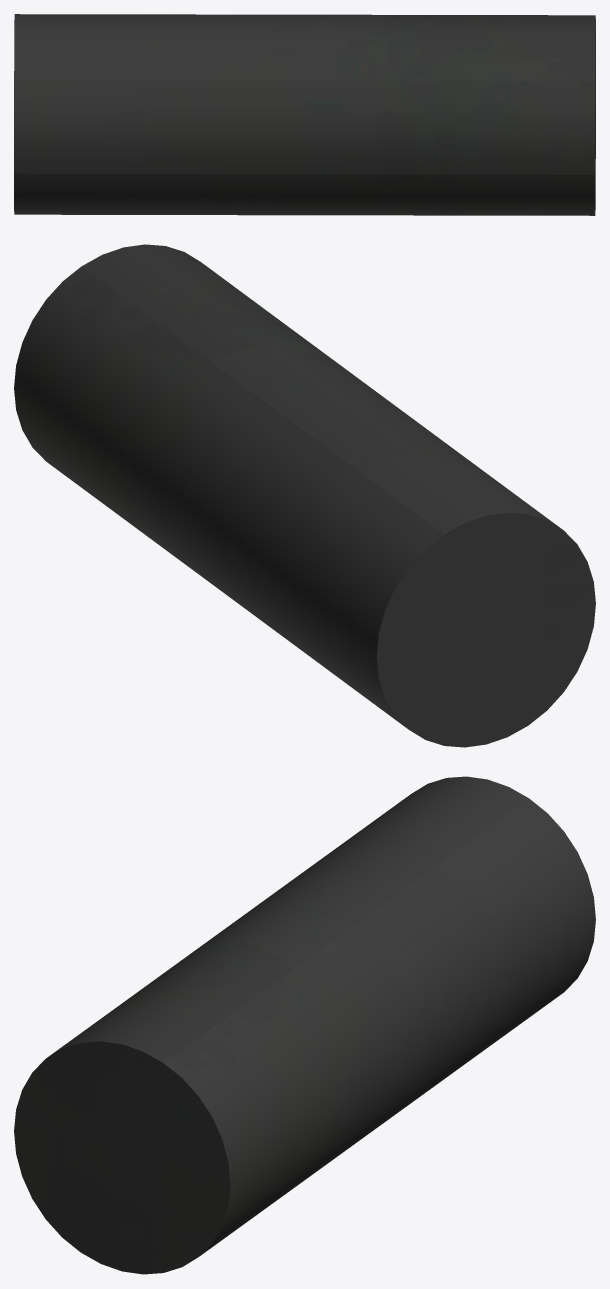
File: center_frame__axle_strut_1.glb
3 renders of one model, top to bottom at view 1: azimuth 30°, elevation 25°; view 2: azimuth 150°, elevation 25°; view 3: azimuth 270°, elevation 25°, orthographic. The views are drawn at different scales.
Parts seen in each view (by area): view 1: world; view 2: world; view 3: world.
Boxes of the visible parts, x1,y1,x2,y2 form: world: (14, 14, 595, 215); world: (14, 244, 595, 747); world: (14, 776, 595, 1274).
Size of the model in its own units: 0.0721 by 0.024 by 0.0557.
Materials: 1 (1 with a texture image).
